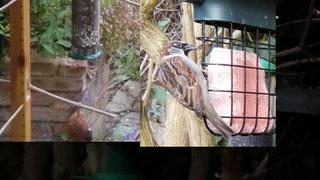sparrow: (158, 40, 236, 140)
